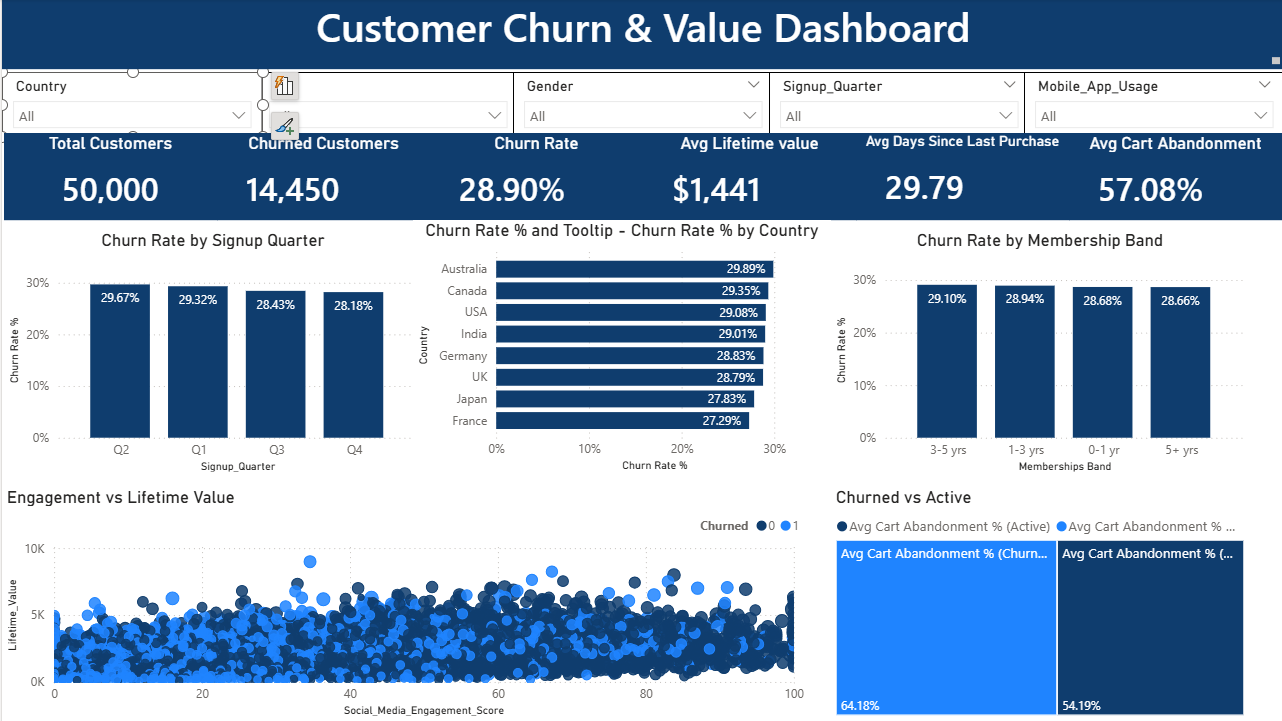

What the dashboard file says about the page in this screenshot:
{"tool":"powerbi","page":{"name":"Page 1","canvas":[1280,720],"ordinal":0},"visuals":[{"type":"group","id":"g1","title":"Group 1","box":[0,73,1280,65],"z":0},{"type":"slicer","fields":{"Values":["ecommerce_customer_churn_dataset.Country"]},"box":[0,73,260.2,65],"z":0,"group":"g1"},{"type":"cardVisual","title":"Total Customers","fields":{"Data":["ecommerce_customer_churn_dataset.Customers"]},"box":[2.3,133.6,212.6,87.1],"z":0,"group":"g2"},{"type":"textbox","title":"Customer Churn & Value Dashboard","box":[0,0,1280,69.7],"z":1000},{"type":"slicer","fields":{"Values":["ecommerce_customer_churn_dataset.City"]},"box":[255,73,260.2,65],"z":1000,"group":"g1"},{"type":"cardVisual","title":"Churned Customers","fields":{"Data":["ecommerce_customer_churn_dataset.Churned Customers"]},"box":[214.9,133.6,212.6,87.1],"z":1000,"group":"g2"},{"type":"slicer","fields":{"Values":["ecommerce_customer_churn_dataset.Gender"]},"box":[509.9,73,260.2,65],"z":2000,"group":"g1"},{"type":"group","id":"g2","title":"Group 2","box":[2.3,133.6,1275.4,87.1],"z":2000},{"type":"cardVisual","title":"Churn Rate","fields":{"Data":["ecommerce_customer_churn_dataset.Churn Rate %"]},"box":[427.4,133.6,212.6,87.1],"z":2000,"group":"g2"},{"type":"slicer","fields":{"Values":["ecommerce_customer_churn_dataset.Signup_Quarter"]},"box":[764.9,73,260.2,65],"z":3000,"group":"g1"},{"type":"cardVisual","title":"Avg Lifetime value","fields":{"Data":["ecommerce_customer_churn_dataset.Avg LTV"]},"box":[640,133.6,212.6,87.1],"z":3000,"group":"g2"},{"type":"clusteredColumnChart","title":"Churn Rate by Signup Quarter","fields":{"Category":["ecommerce_customer_churn_dataset.Signup_Quarter"],"Y":["ecommerce_customer_churn_dataset.Churn Rate %"]},"box":[2.3,230,417,246.2],"z":3000},{"type":"slicer","fields":{"Values":["ecommerce_customer_churn_dataset.Mobile_App_Usage"]},"box":[1019.8,73,260.2,65],"z":4000,"group":"g1"},{"type":"cardVisual","title":"Avg Days Since Last Purchase","fields":{"Data":["ecommerce_customer_churn_dataset.Avg Days Since Last Purchase"]},"box":[852.5,133.6,212.6,87.1],"z":4000,"group":"g2"},{"type":"clusteredBarChart","fields":{"Category":["ecommerce_customer_churn_dataset.Country"],"Y":["ecommerce_customer_churn_dataset.Churn Rate %"]},"box":[410,220.7,417,255.5],"z":4000},{"type":"cardVisual","title":"Avg Cart Abandonment","fields":{"Data":["ecommerce_customer_churn_dataset.Avg Cart Abandonment %"]},"box":[1065.1,133.6,212.6,87.1],"z":5000,"group":"g2"},{"type":"clusteredColumnChart","title":"Churn Rate by Membership Band","fields":{"Y":["ecommerce_customer_churn_dataset.Churn Rate %"],"Category":["ecommerce_customer_churn_dataset.Memberships Band"]},"box":[827,230,417,246.2],"z":5000},{"type":"scatterChart","title":"Engagement vs Lifetime Value","fields":{"Series":["ecommerce_customer_churn_dataset.Churned"],"Size":["Sum(ecommerce_customer_churn_dataset.Total_Purchases)"],"X":["ecommerce_customer_churn_dataset.Social_Media_Engagement_Score"],"Y":["ecommerce_customer_churn_dataset.Lifetime_Value"]},"box":[0,486.7,804.9,233.5],"z":7000},{"type":"treemap","title":"Churned vs Active","fields":{"Values":["ecommerce_customer_churn_dataset.Avg Cart Abandonment % (Active)","ecommerce_customer_churn_dataset.Avg Cart Abandonment % (Churned)"]},"box":[827,487,417,233],"z":7001}]}

Visuals, with their boxes in screenshot pixels (x1, y1, x2, y2), scaled from the page's 1280x720 canvas onto the 1282x721 screenshot:
"Group 1" group: (left=0, top=73, right=1281, bottom=138)
slicer - ecommerce_customer_churn_dataset.Country: (left=0, top=73, right=261, bottom=138)
"Total Customers" cardVisual: (left=2, top=134, right=215, bottom=221)
"Customer Churn & Value Dashboard" textbox: (left=0, top=0, right=1281, bottom=70)
slicer - ecommerce_customer_churn_dataset.City: (left=255, top=73, right=516, bottom=138)
"Churned Customers" cardVisual: (left=215, top=134, right=428, bottom=221)
slicer - ecommerce_customer_churn_dataset.Gender: (left=511, top=73, right=771, bottom=138)
"Group 2" group: (left=2, top=134, right=1280, bottom=221)
"Churn Rate" cardVisual: (left=428, top=134, right=641, bottom=221)
slicer - ecommerce_customer_churn_dataset.Signup_Quarter: (left=766, top=73, right=1027, bottom=138)
"Avg Lifetime value" cardVisual: (left=641, top=134, right=854, bottom=221)
"Churn Rate by Signup Quarter" clusteredColumnChart: (left=2, top=230, right=420, bottom=477)
slicer - ecommerce_customer_churn_dataset.Mobile_App_Usage: (left=1021, top=73, right=1281, bottom=138)
"Avg Days Since Last Purchase" cardVisual: (left=854, top=134, right=1067, bottom=221)
clusteredBarChart - ecommerce_customer_churn_dataset.Country x ecommerce_customer_churn_dataset.Churn Rate %: (left=411, top=221, right=828, bottom=477)
"Avg Cart Abandonment" cardVisual: (left=1067, top=134, right=1280, bottom=221)
"Churn Rate by Membership Band" clusteredColumnChart: (left=828, top=230, right=1246, bottom=477)
"Engagement vs Lifetime Value" scatterChart: (left=0, top=487, right=806, bottom=720)
"Churned vs Active" treemap: (left=828, top=488, right=1246, bottom=720)
